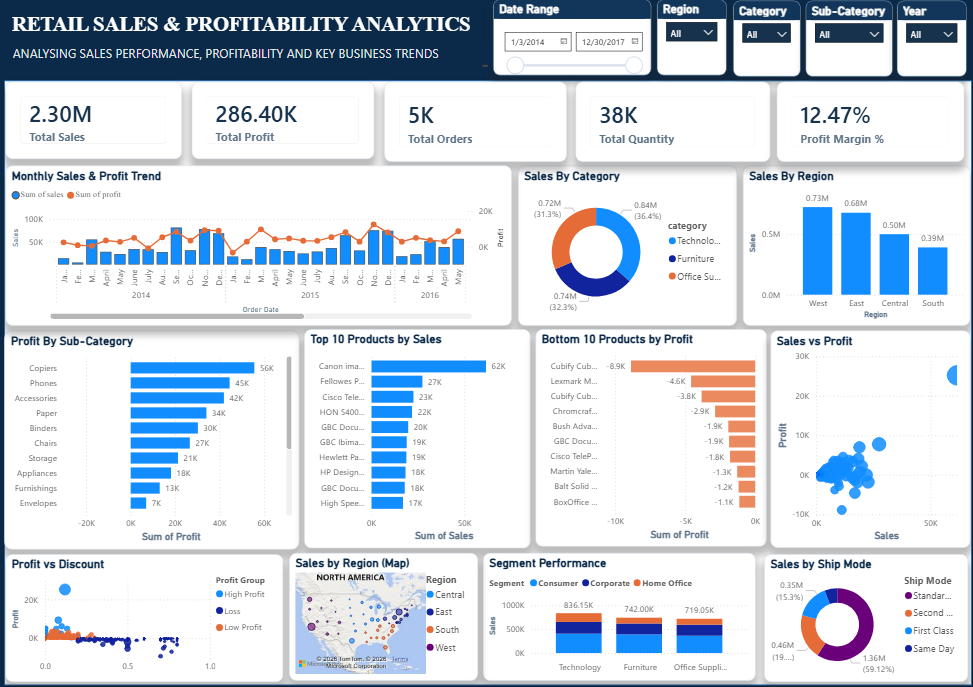

Layout of this report page (visuals, bound fields, positions):
{"tool":"powerbi","page":{"name":"Page 1","canvas":[1400,990],"ordinal":0},"visuals":[{"type":"shape","box":[0,108.9,1400,880.4],"z":0},{"type":"donutChart","title":"Sales By Category","fields":{"Category":["retail_sales_analytics superstore_sales_final.category"],"Y":["Sum(retail_sales_analytics superstore_sales_final.sales)"]},"box":[742.9,239.3,312.5,228.6],"z":1000},{"type":"clusteredColumnChart","title":"Sales By Region","fields":{"Y":["Sum(retail_sales_analytics superstore_sales_final.sales)"],"Category":["retail_sales_analytics superstore_sales_final.region"]},"box":[1064.3,239.3,325,228.6],"z":2000},{"type":"clusteredBarChart","title":"Profit By Sub-Category","fields":{"Category":["retail_sales_analytics superstore_sales_final.sub_category"],"Y":["Sum(retail_sales_analytics superstore_sales_final.profit)"]},"box":[8.9,475,421.4,312.5],"z":3000},{"type":"textbox","title":"RETAIL SALES & PROFITABILITY ANALYTICS","box":[1.8,19.6,691.1,32.1],"z":4000},{"type":"slicer","title":"Date Range","fields":{"Values":["retail_sales_analytics superstore_sales_final.order_date"]},"box":[707.1,1.8,226.8,108.9],"z":5000},{"type":"slicer","title":"Region","fields":{"Values":["retail_sales_analytics superstore_sales_final.region"]},"box":[941.1,1.8,100,108.9],"z":6000},{"type":"slicer","title":"Category","fields":{"Values":["retail_sales_analytics superstore_sales_final.category"]},"box":[1050,3.6,96.4,108.9],"z":7000},{"type":"slicer","title":"Sub-Category","fields":{"Values":["retail_sales_analytics superstore_sales_final.sub_category"]},"box":[1153.6,3.6,125,108.9],"z":8000},{"type":"slicer","title":"Year","fields":{"Values":["retail_sales_analytics superstore_sales_final.order_date.Variation.Date Hierarchy.Year"]},"box":[1283.9,3.6,100,108.9],"z":9000},{"type":"cardVisual","fields":{"Data":["retail_sales_analytics superstore_sales_final.Total Sales"]},"box":[10.7,119.6,251.8,110.7],"z":10000},{"type":"cardVisual","fields":{"Data":["retail_sales_analytics superstore_sales_final.Total Profit"]},"box":[276.8,119.6,260.7,110.7],"z":11000},{"type":"cardVisual","fields":{"Data":["retail_sales_analytics superstore_sales_final.Total Orders"]},"box":[551.8,119.6,260.7,114.3],"z":12000},{"type":"cardVisual","fields":{"Data":["retail_sales_analytics superstore_sales_final.Total Quantity"]},"box":[825,119.6,278.6,114.3],"z":13000},{"type":"cardVisual","fields":{"Data":["retail_sales_analytics superstore_sales_final.Profit Margin %"]},"box":[1112.5,119.6,267.9,114.3],"z":14000},{"type":"lineClusteredColumnComboChart","title":"Monthly Sales & Profit Trend","fields":{"Y":["Sum(retail_sales_analytics superstore_sales_final.sales)"],"Y2":["Sum(retail_sales_analytics superstore_sales_final.profit)"],"Category":["retail_sales_analytics superstore_sales_final.order_date.Variation.Date Hierarchy.Year","retail_sales_analytics superstore_sales_final.order_date.Variation.Date Hierarchy.Month"]},"box":[10.7,239.3,723.2,228.6],"z":15000},{"type":"clusteredBarChart","title":"Top 10 Products by Sales","fields":{"Y":["Sum(retail_sales_analytics superstore_sales_final.sales)"],"Category":["retail_sales_analytics superstore_sales_final.product_name"]},"box":[437.5,473.2,323.2,312.5],"z":16000},{"type":"clusteredBarChart","title":"Bottom 10 Products by Profit","fields":{"Y":["Sum(retail_sales_analytics superstore_sales_final.profit)"],"Category":["retail_sales_analytics superstore_sales_final.product_name"]},"box":[767.9,473.2,330.4,310.7],"z":17000},{"type":"scatterChart","title":"Sales vs Profit","fields":{"X":["Sum(retail_sales_analytics superstore_sales_final.sales)"],"Y":["Sum(retail_sales_analytics superstore_sales_final.profit)"],"Category":["retail_sales_analytics superstore_sales_final.product_name"],"Size":["Sum(retail_sales_analytics superstore_sales_final.sales)"]},"box":[1103.6,475,285.7,310.7],"z":18000},{"type":"scatterChart","title":"Profit vs Discount","fields":{"X":["Avg(retail_sales_analytics superstore_sales_final.discount)"],"Y":["Sum(retail_sales_analytics superstore_sales_final.profit)"],"Category":["retail_sales_analytics superstore_sales_final.product_name"],"Series":["retail_sales_analytics superstore_sales_final.Profit Group"],"Size":["Sum(retail_sales_analytics superstore_sales_final.sales)"]},"box":[10.7,794.6,396.4,182.1],"z":19000},{"type":"columnChart","title":"Segment Performance","fields":{"Y":["Sum(retail_sales_analytics superstore_sales_final.sales)"],"Category":["retail_sales_analytics superstore_sales_final.category"],"Series":["retail_sales_analytics superstore_sales_final.segment"]},"box":[692.9,792.9,389.3,182.1],"z":20000},{"type":"map","title":"Sales by Region (Map)","fields":{"Category":["retail_sales_analytics superstore_sales_final.state"],"Series":["retail_sales_analytics superstore_sales_final.region"],"Size":["Sum(retail_sales_analytics superstore_sales_final.sales)"]},"box":[416.1,792.9,269.6,182.1],"z":21000},{"type":"donutChart","title":"Sales by Ship Mode","fields":{"Category":["retail_sales_analytics superstore_sales_final.ship_mode"],"Y":["Sum(retail_sales_analytics superstore_sales_final.sales)"]},"box":[1094.6,794.6,291.1,182.1],"z":22000},{"type":"textbox","box":[16.1,62.5,689.3,41.1],"z":23000}]}

Visuals, with their boxes in screenshot pixels (x1, y1, x2, y2), scaled from the page's 1400x990 canvas onto the 973x687 screenshot:
shape: 0/76/972/686
"Sales By Category" donutChart: 516/166/734/325
"Sales By Region" clusteredColumnChart: 740/166/966/325
"Profit By Sub-Category" clusteredBarChart: 6/330/299/546
"RETAIL SALES & PROFITABILITY ANALYTICS" textbox: 1/14/482/36
"Date Range" slicer: 491/1/649/77
"Region" slicer: 654/1/724/77
"Category" slicer: 730/2/797/78
"Sub-Category" slicer: 802/2/889/78
"Year" slicer: 892/2/962/78
cardVisual - retail_sales_analytics superstore_sales_final.Total Sales: 7/83/182/160
cardVisual - retail_sales_analytics superstore_sales_final.Total Profit: 192/83/374/160
cardVisual - retail_sales_analytics superstore_sales_final.Total Orders: 384/83/565/162
cardVisual - retail_sales_analytics superstore_sales_final.Total Quantity: 573/83/767/162
cardVisual - retail_sales_analytics superstore_sales_final.Profit Margin %: 773/83/959/162
"Monthly Sales & Profit Trend" lineClusteredColumnComboChart: 7/166/510/325
"Top 10 Products by Sales" clusteredBarChart: 304/328/529/545
"Bottom 10 Products by Profit" clusteredBarChart: 534/328/763/544
"Sales vs Profit" scatterChart: 767/330/966/545
"Profit vs Discount" scatterChart: 7/551/283/678
"Segment Performance" columnChart: 482/550/752/677
"Sales by Region (Map)" map: 289/550/477/677
"Sales by Ship Mode" donutChart: 761/551/963/678
textbox: 11/43/490/72
